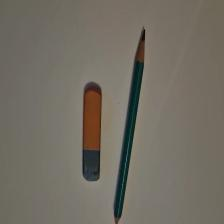eraser: (83, 88, 103, 183)
pencil: (115, 31, 147, 224)
